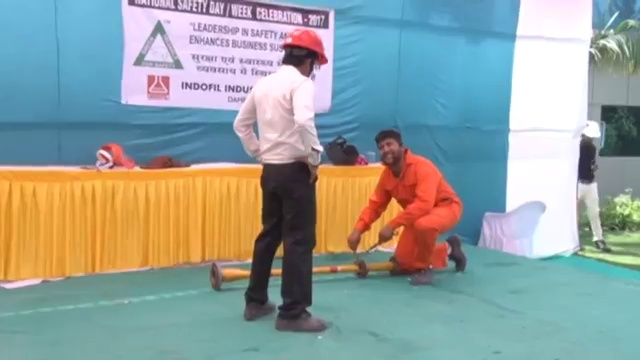helmet: (280, 28, 327, 65), (580, 119, 602, 139)
helmet_off: (375, 128, 406, 169)
helmet_on: (277, 27, 328, 80), (579, 119, 602, 147)
person: (233, 26, 332, 334), (346, 127, 468, 288), (575, 118, 610, 255)
